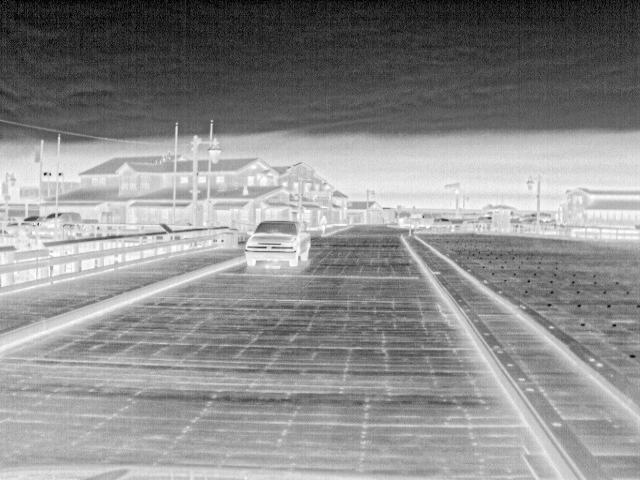car: (243, 220, 311, 268), (57, 209, 99, 225), (403, 211, 434, 230), (433, 215, 453, 226), (20, 214, 40, 225), (41, 212, 56, 223)
person: (318, 213, 330, 233)
